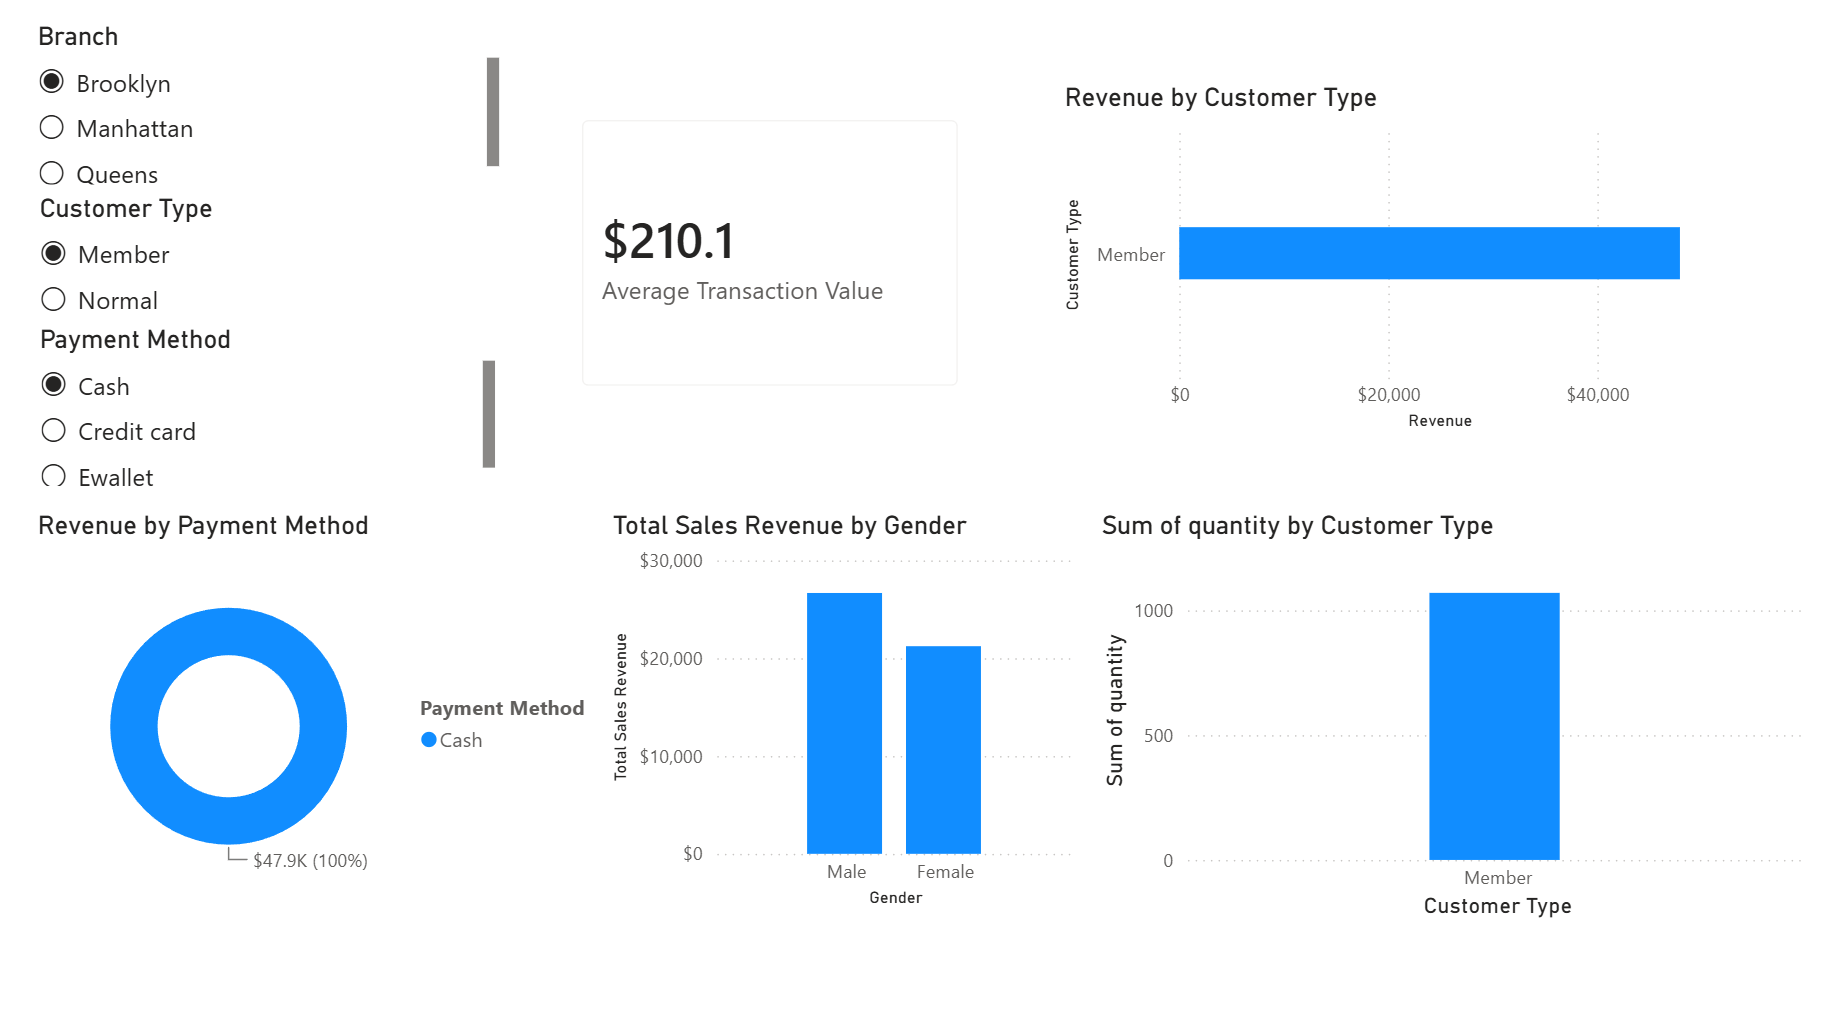

The dashboard page shown, as its layout file describes it:
{"tool":"powerbi","page":{"name":"Page 2","canvas":[1280,720],"ordinal":1},"visuals":[{"type":"cardVisual","fields":{"Data":["sales_clean.Average Transaction Value"]},"box":[424,72,280,208],"z":0},{"type":"clusteredBarChart","fields":{"Category":["sales_clean.customertype"],"Y":["sales_clean.Revenue"]},"box":[752,64,448,232],"z":1000},{"type":"donutChart","fields":{"Y":["sales_clean.Revenue"],"Category":["sales_clean.payment"]},"box":[80,344,384,264],"z":2000},{"type":"clusteredColumnChart","fields":{"Category":["sales_clean.gender"],"Y":["sales_clean.Total Sales Revenue"]},"box":[456,344,312,264],"z":3000},{"type":"clusteredColumnChart","fields":{"Category":["sales_clean.customertype"],"Y":["Sum(sales_clean.quantity)"]},"box":[776,344,472,272],"z":4000},{"type":"listSlicer","fields":{"Values":["sales_clean.Branch"]},"box":[80,24,312,112],"z":5000},{"type":"listSlicer","fields":{"Values":["sales_clean.Customer Type"]},"box":[81.1,136.8,308.9,105.4],"z":6000},{"type":"listSlicer","fields":{"Values":["sales_clean.payment"]},"box":[81.1,222.5,308.9,111.9],"z":7000}]}

Visuals, with their boxes in screenshot pixels (x1, y1, x2, y2), scaled from the page's 1280x720 canvas onto the 1845x1022 screenshot:
cardVisual - sales_clean.Average Transaction Value: (left=611, top=102, right=1015, bottom=397)
clusteredBarChart - sales_clean.customertype x sales_clean.Revenue: (left=1084, top=91, right=1730, bottom=420)
donutChart - sales_clean.Revenue x sales_clean.payment: (left=115, top=488, right=669, bottom=863)
clusteredColumnChart - sales_clean.gender x sales_clean.Total Sales Revenue: (left=657, top=488, right=1107, bottom=863)
clusteredColumnChart - sales_clean.customertype x Sum(sales_clean.quantity): (left=1119, top=488, right=1799, bottom=874)
listSlicer - sales_clean.Branch: (left=115, top=34, right=565, bottom=193)
listSlicer - sales_clean.Customer Type: (left=117, top=194, right=562, bottom=344)
listSlicer - sales_clean.payment: (left=117, top=316, right=562, bottom=475)
